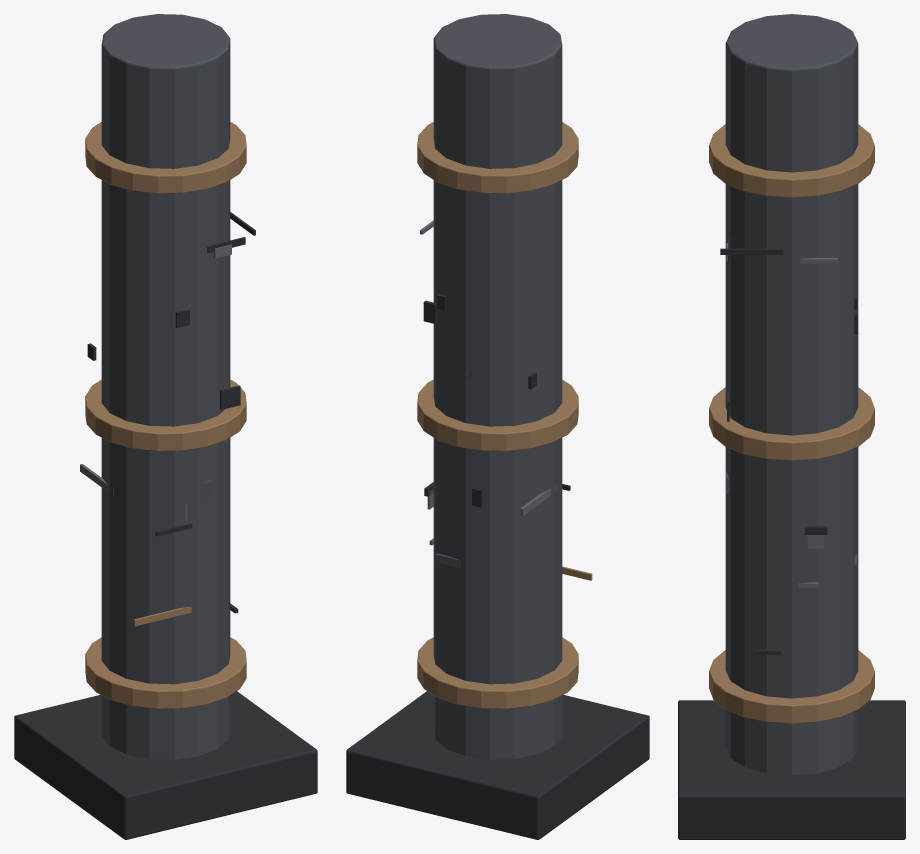
File: env_pillar.fbx
3 renders of one model, left to right at view 1: azimuth 30°, elevation 25°; view 2: azimuth 150°, elevation 25°; view 3: azimuth 270°, elevation 25°, orthographic. The views are drawn at different scales.
Parts seen in each view (by area): view 1: SM_Env_Pillar; view 2: SM_Env_Pillar; view 3: SM_Env_Pillar.
Part boxes in pixels (x1,y1,x2,y2): SM_Env_Pillar: [14, 14, 317, 839]; SM_Env_Pillar: [346, 14, 649, 839]; SM_Env_Pillar: [678, 14, 905, 839].
Size of what is drawn, in the model's own units: 110 by 400 by 110.
